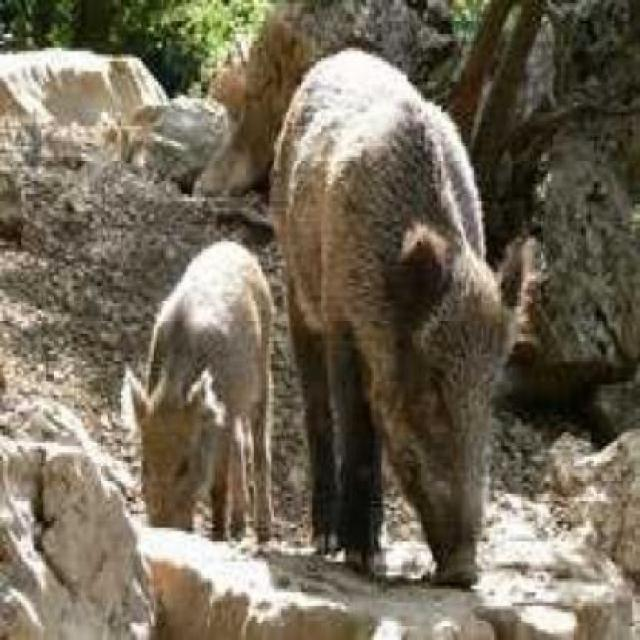pig: (240, 20, 534, 613), (140, 234, 290, 569)
